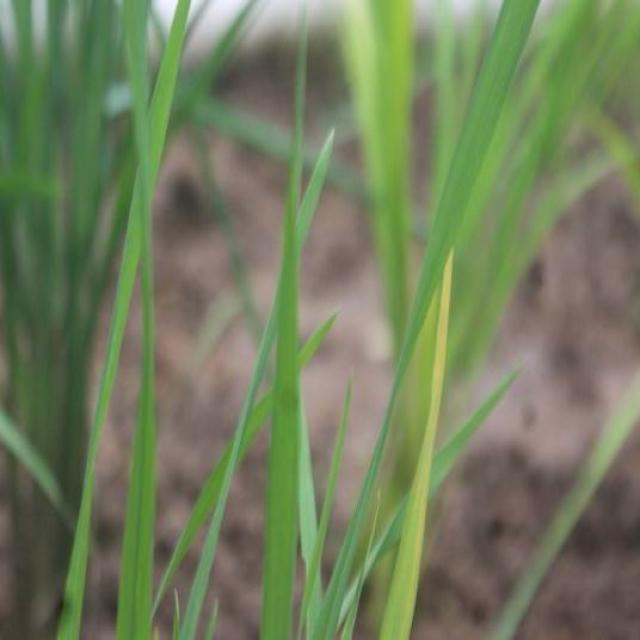Rice Tungro: (435, 259, 460, 425)
